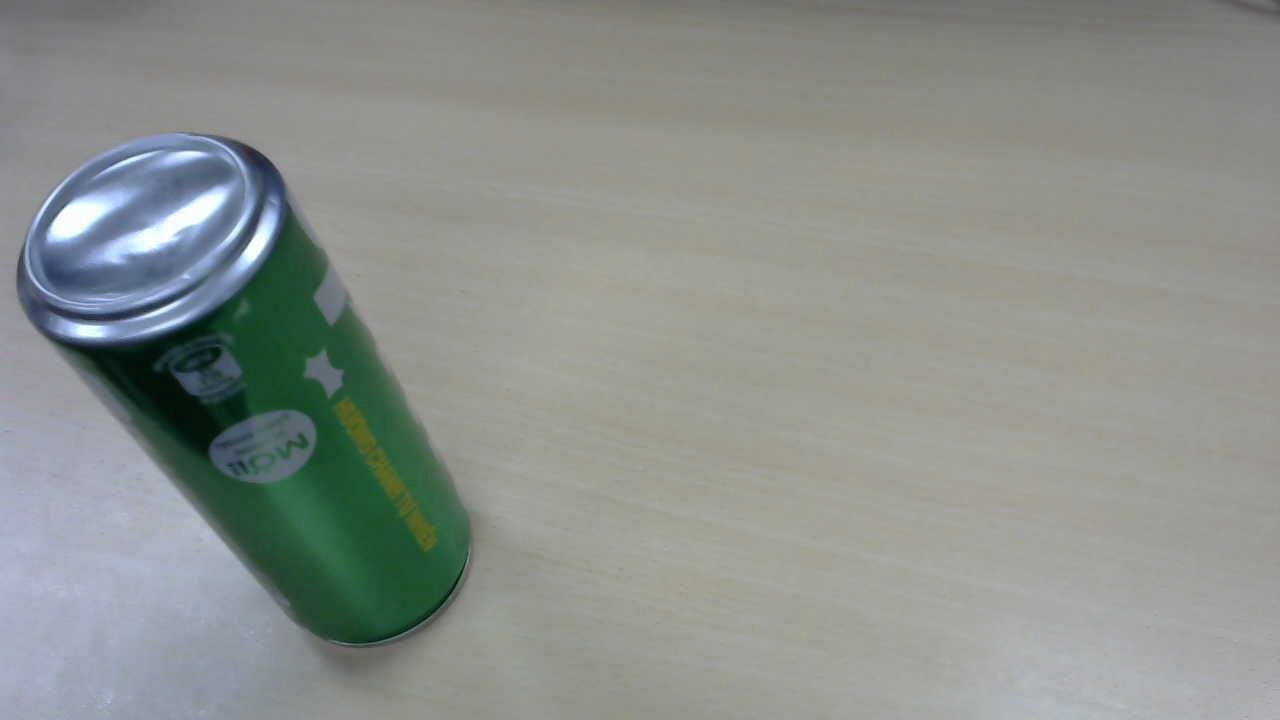Sprite: (22, 134, 475, 648)
